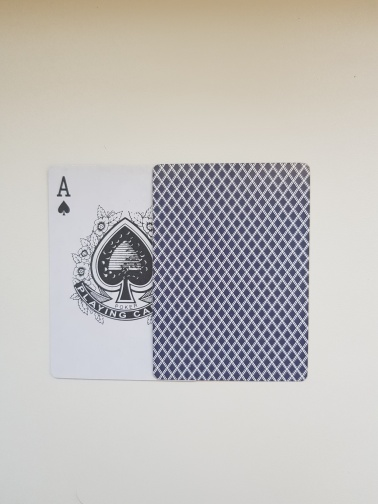ace: (48, 165, 202, 381)
